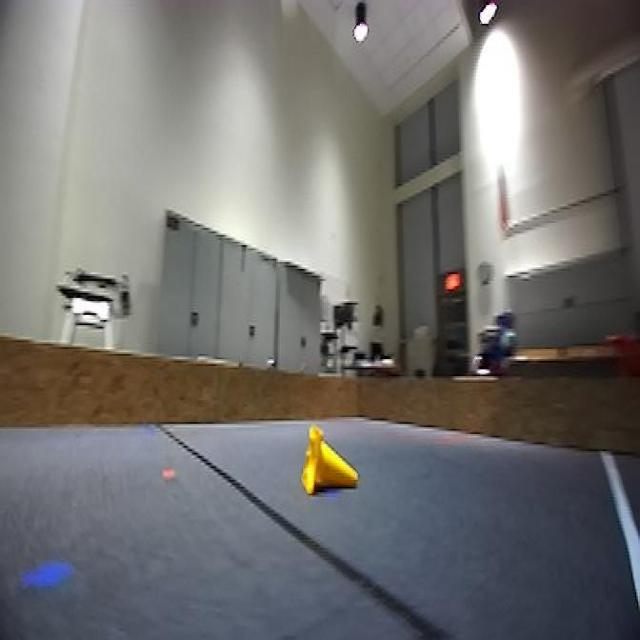frc_cone: (300, 429, 353, 500)
